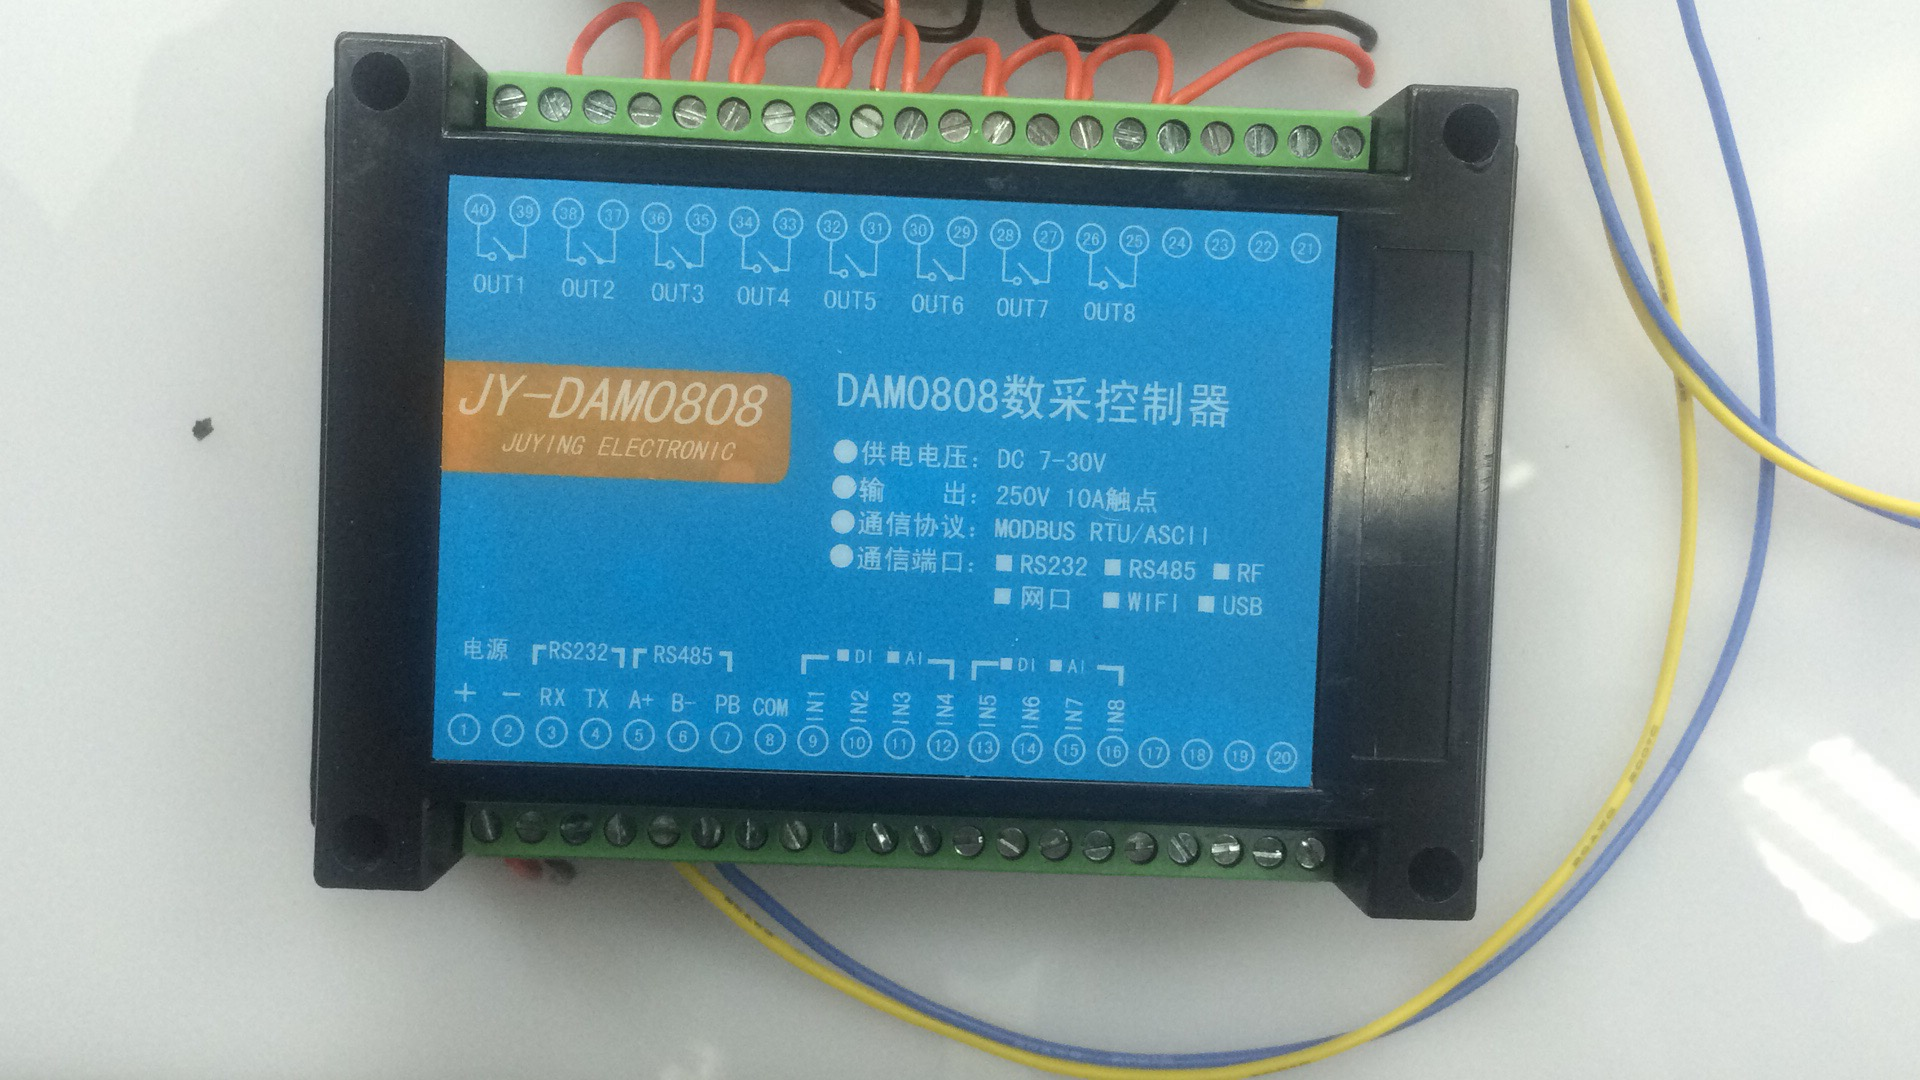relay: (299, 22, 1513, 945)
